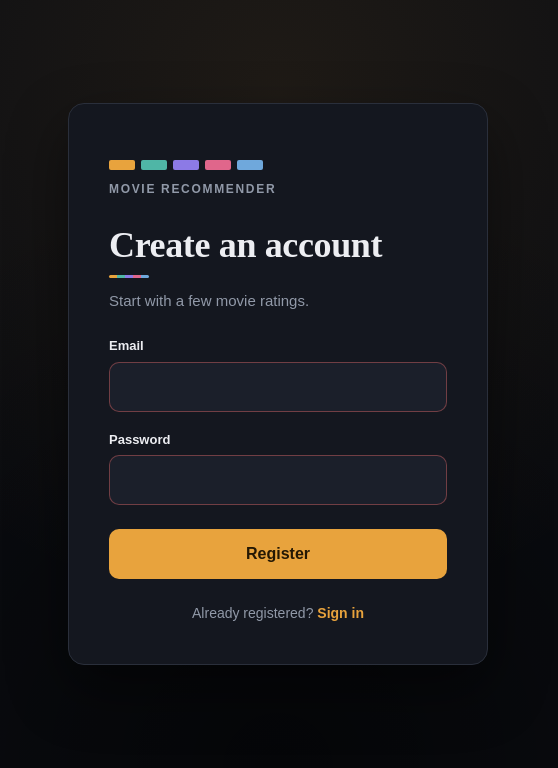
Test: AuthForm › shows backend registration errors
This screenshot has width=558, height=768.
In the field labelled "Email": point(278, 387) [109,362,447,412], type "person@example.com"
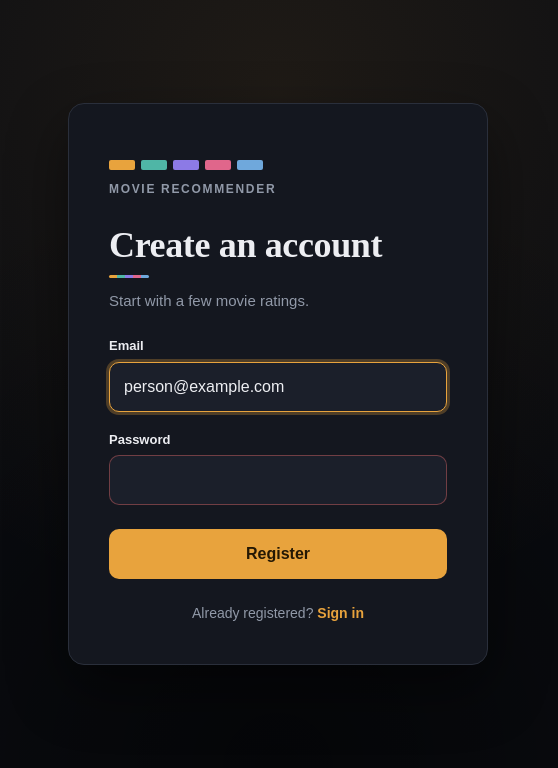
In the password field labelled "Password": point(278, 480) [109,455,447,505], type "password123"
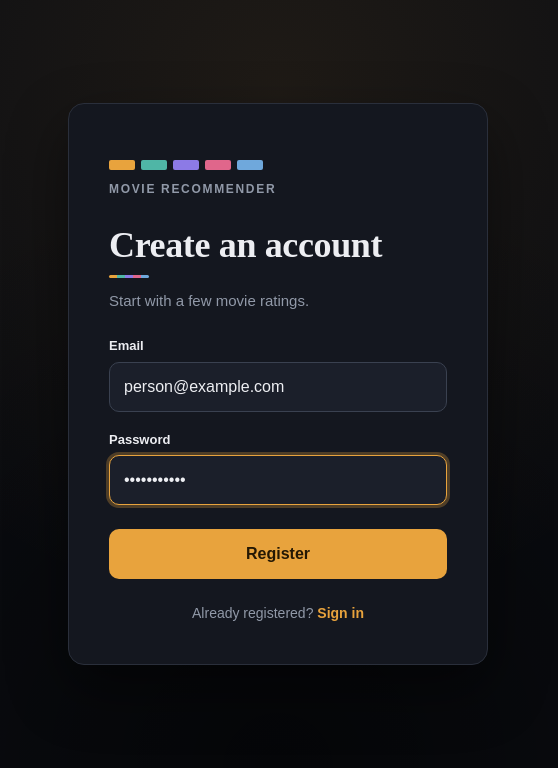
Click the button "Register": point(278, 554) [109,529,447,579]
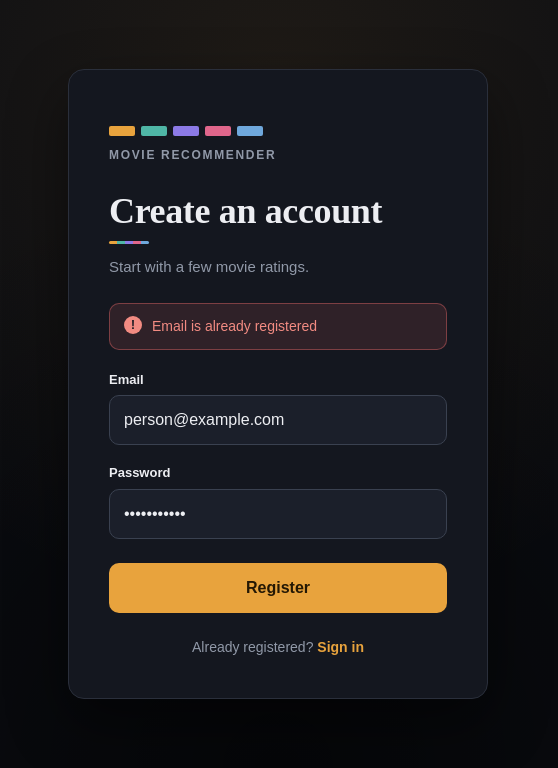
Result: the message shows "Email is already registered" at [152,318,317,334]
